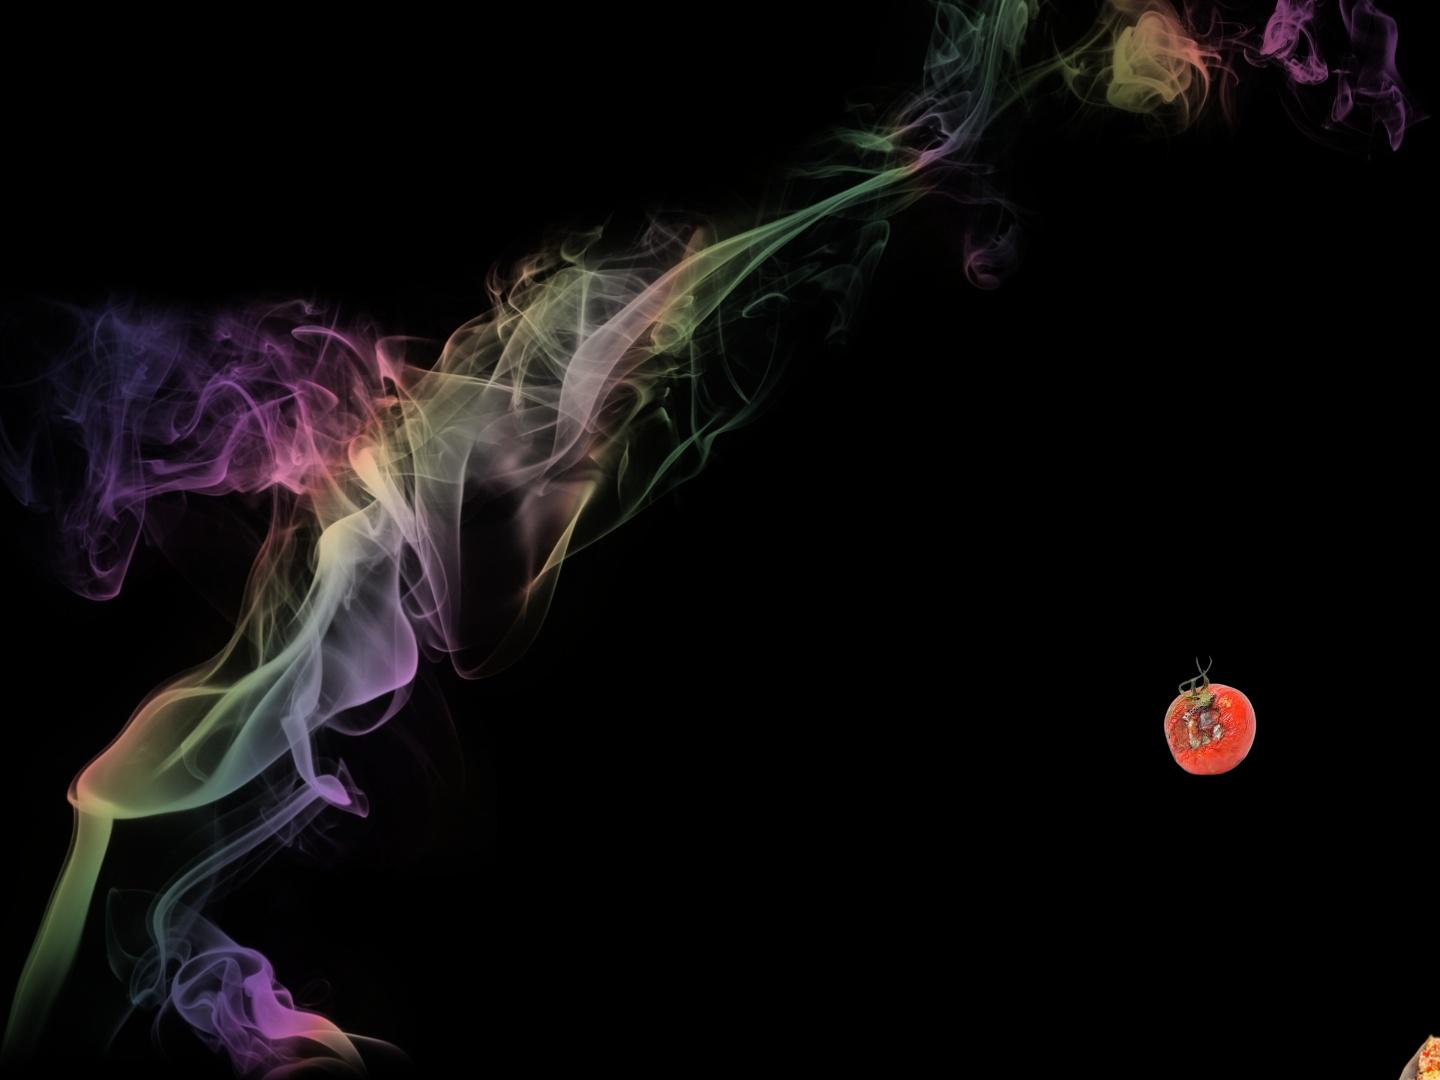biological: (1161, 653, 1259, 778), (1392, 995, 1440, 1080)
